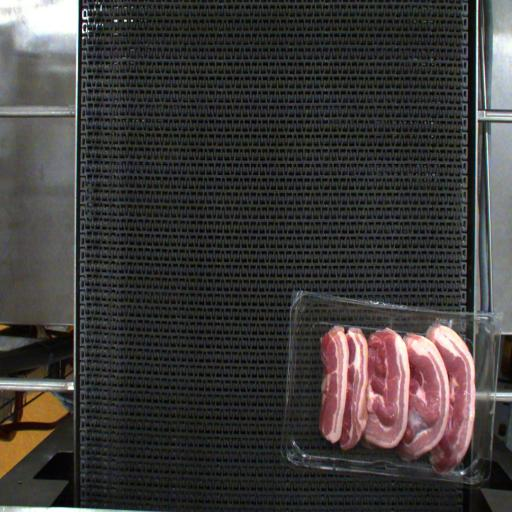packaging-error: (432, 308, 461, 338)
